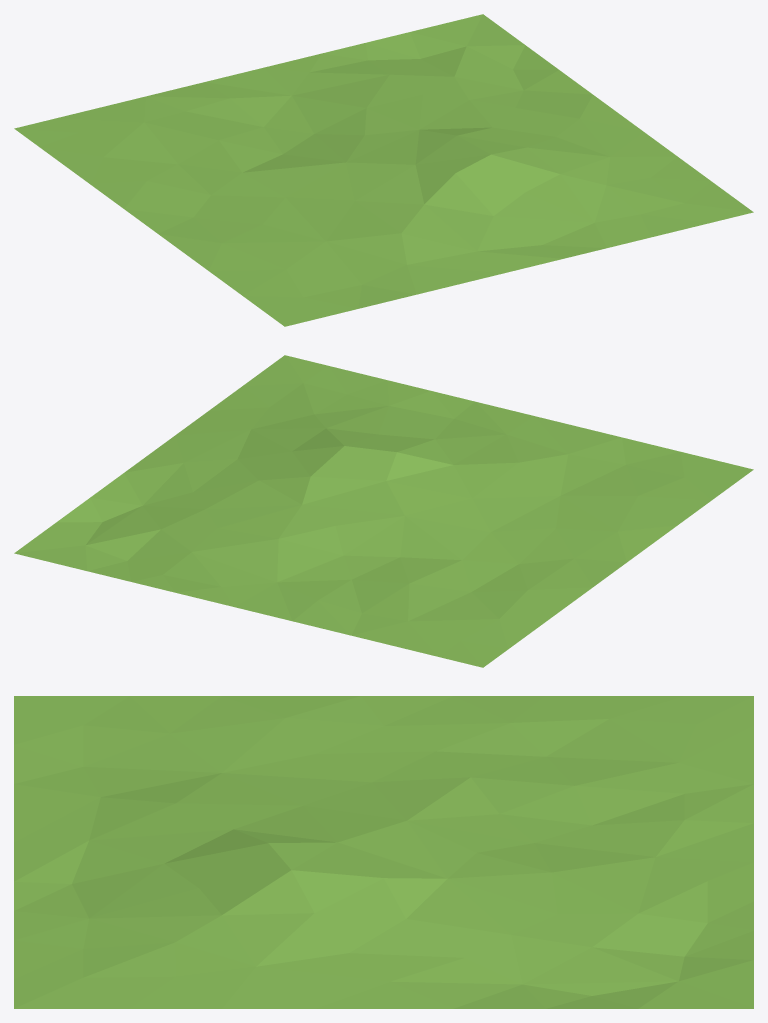
File: MT_Terrain_S_a_04.fbx
3 views of the same model, one above another, from view 1: azimuth 30°, elevation 25°; view 2: azimuth 150°, elevation 25°; view 3: azimuth 270°, elevation 25° (orthographic). The views are drawn at different scales.
Visible parts, largest first — view 1: MT_Terrain_S_a_04; view 2: MT_Terrain_S_a_04; view 3: MT_Terrain_S_a_04.
Part boxes in pixels (x1,y1,x2,y2): MT_Terrain_S_a_04: [14, 14, 753, 326]; MT_Terrain_S_a_04: [14, 355, 753, 667]; MT_Terrain_S_a_04: [14, 696, 753, 1008].
Size of the model in its own units: 2500 by 141 by 2500.
